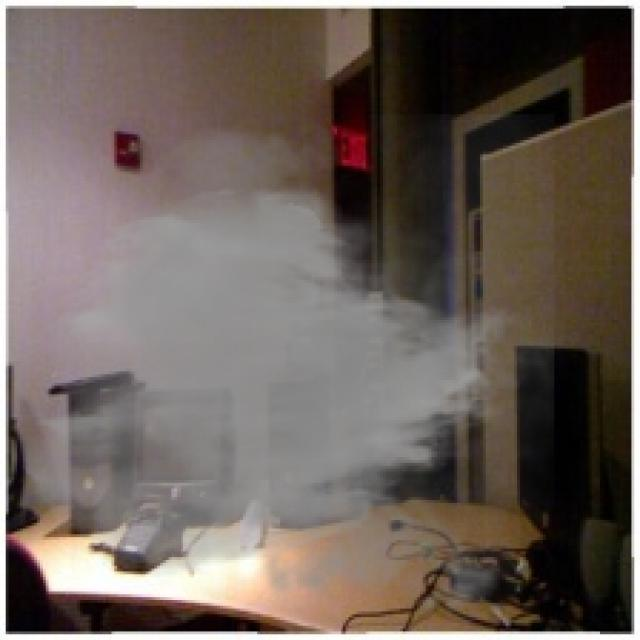Smoke: (17, 114, 554, 632)
